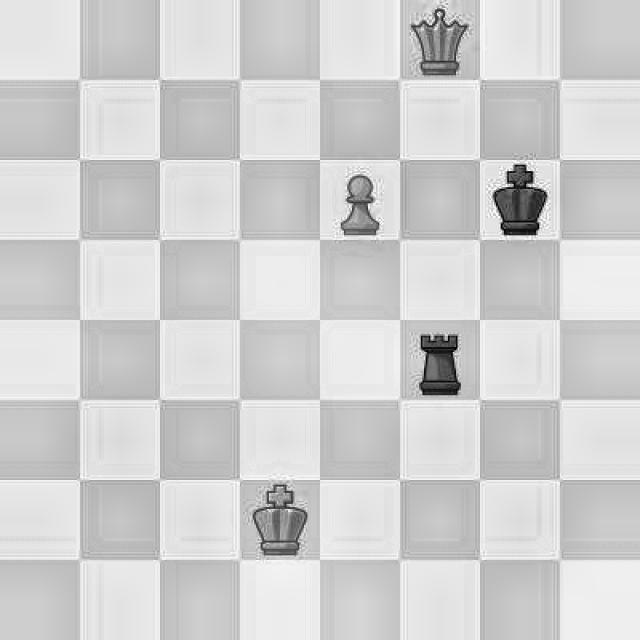black king: (478, 160, 559, 245)
black rook: (405, 326, 472, 399)
white king: (238, 478, 314, 557)
white pawn: (325, 162, 398, 242)
white queen: (400, 0, 477, 80)
